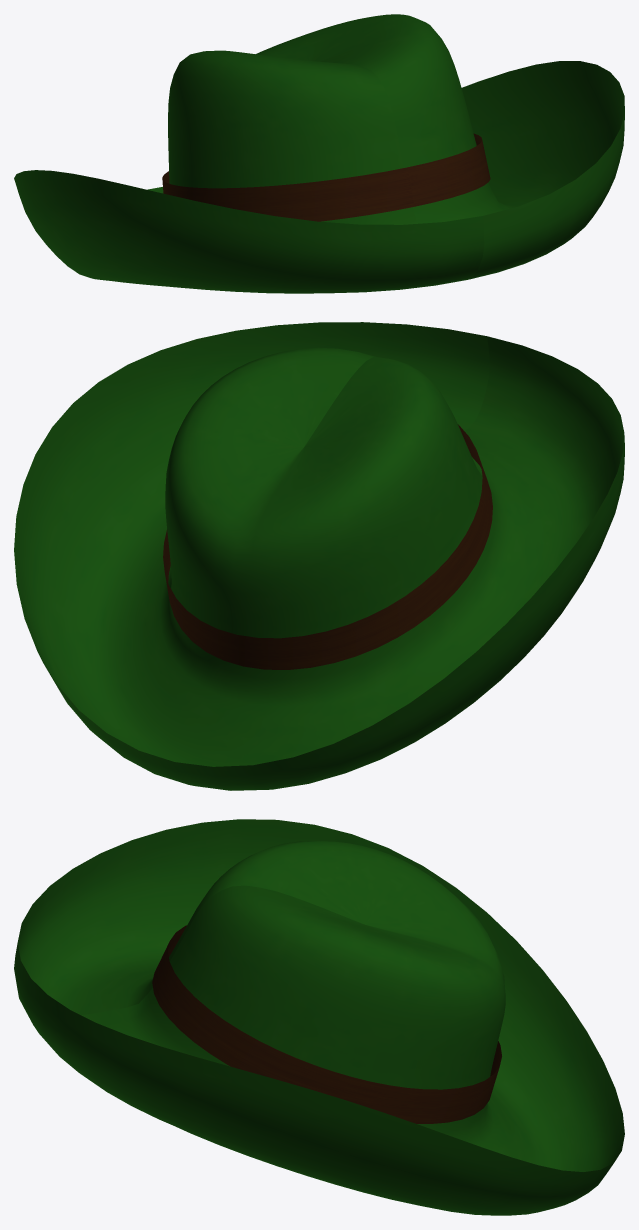
Rendered from hat.yellow.gltf.
3 views of the same model, one above another, from view 1: azimuth 30°, elevation 25°; view 2: azimuth 150°, elevation 25°; view 3: azimuth 270°, elevation 25° (orthographic). The views are drawn at different scales.
Visible parts, largest first — view 1: Head; view 2: Head; view 3: Head.
Boxes of the visible parts, x1,y1,x2,y2 form: Head: [14, 14, 624, 293]; Head: [14, 322, 624, 790]; Head: [14, 819, 624, 1215].
Bounding box in the file's own units: 0.3867 × 0.2158 × 0.3984.
1 material, 1 textured.
